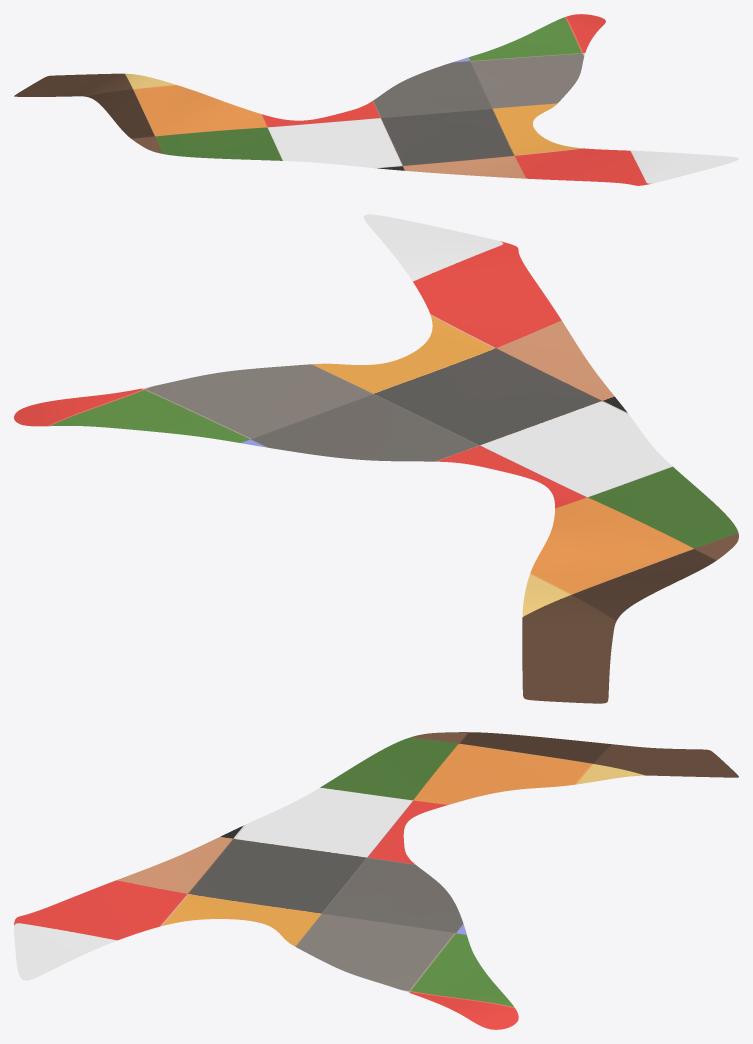
The model's file is lvl2grasslowerpassage.fbx.
3 views of the same model, one above another, from view 1: azimuth 30°, elevation 25°; view 2: azimuth 150°, elevation 25°; view 3: azimuth 270°, elevation 25° (orthographic). The views are drawn at different scales.
Visible parts, largest first — view 1: lowerpassagegrass; view 2: lowerpassagegrass; view 3: lowerpassagegrass.
Part boxes in pixels (left/top/right/bottom): lowerpassagegrass: left=14, top=14, right=738, bottom=185; lowerpassagegrass: left=14, top=214, right=738, bottom=703; lowerpassagegrass: left=14, top=732, right=738, bottom=1029.
Bounding box in the file's own units: 37.49 × 2.31 × 37.94.
